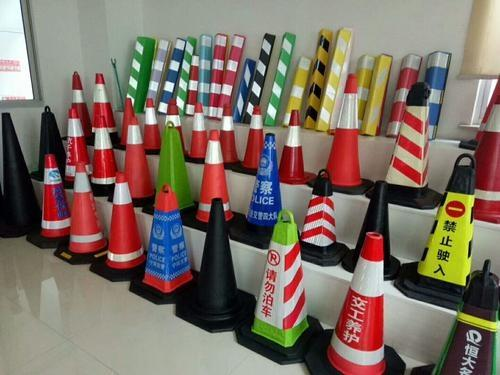cone_barrel: (322, 232, 396, 374), (244, 208, 313, 359), (412, 154, 479, 294), (435, 258, 497, 374), (134, 189, 194, 297), (188, 203, 241, 324), (382, 81, 432, 201), (322, 73, 366, 188), (99, 175, 146, 277), (350, 186, 398, 275), (62, 158, 105, 257), (244, 131, 286, 231), (192, 136, 236, 230), (151, 121, 195, 213), (472, 83, 499, 223), (33, 151, 71, 243), (300, 172, 340, 254), (121, 112, 155, 204), (62, 105, 90, 190), (87, 115, 115, 194), (33, 110, 65, 177), (88, 72, 117, 145), (278, 108, 307, 179), (240, 102, 264, 169), (162, 96, 185, 156), (68, 70, 89, 135), (187, 100, 207, 159), (219, 100, 237, 165), (142, 98, 160, 151)
